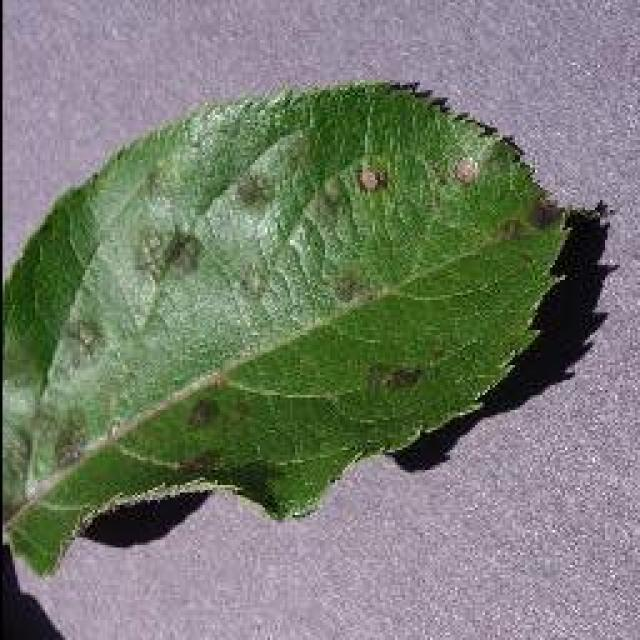apple scab disease: (0, 75, 580, 575)
